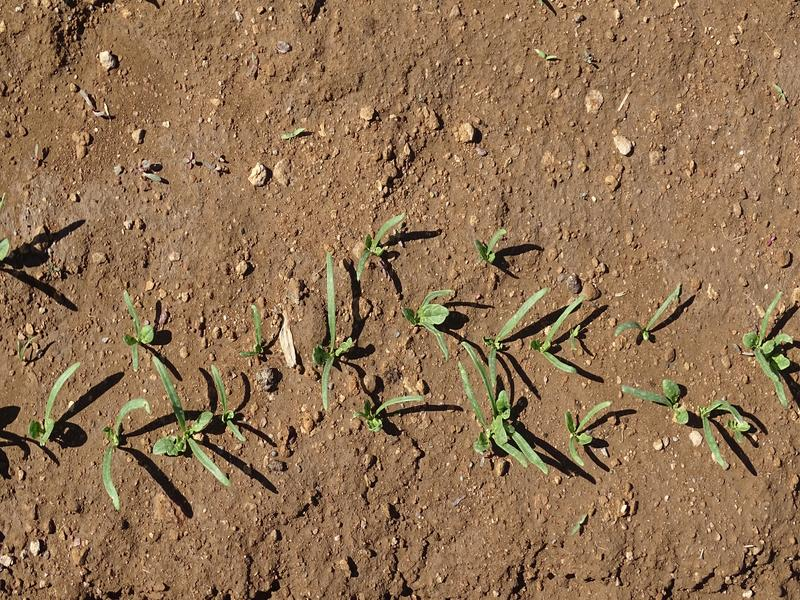Espinaca: (398, 285, 750, 484), (100, 296, 249, 497), (16, 359, 85, 446), (743, 297, 796, 404), (320, 242, 344, 425), (357, 218, 411, 280)
